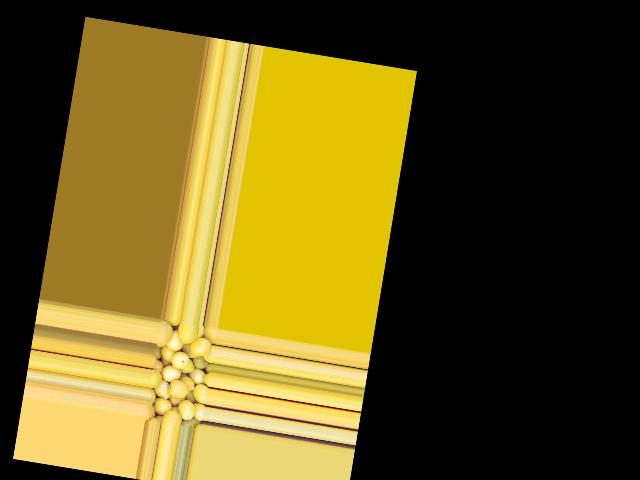lemon: (190, 381, 208, 404)
